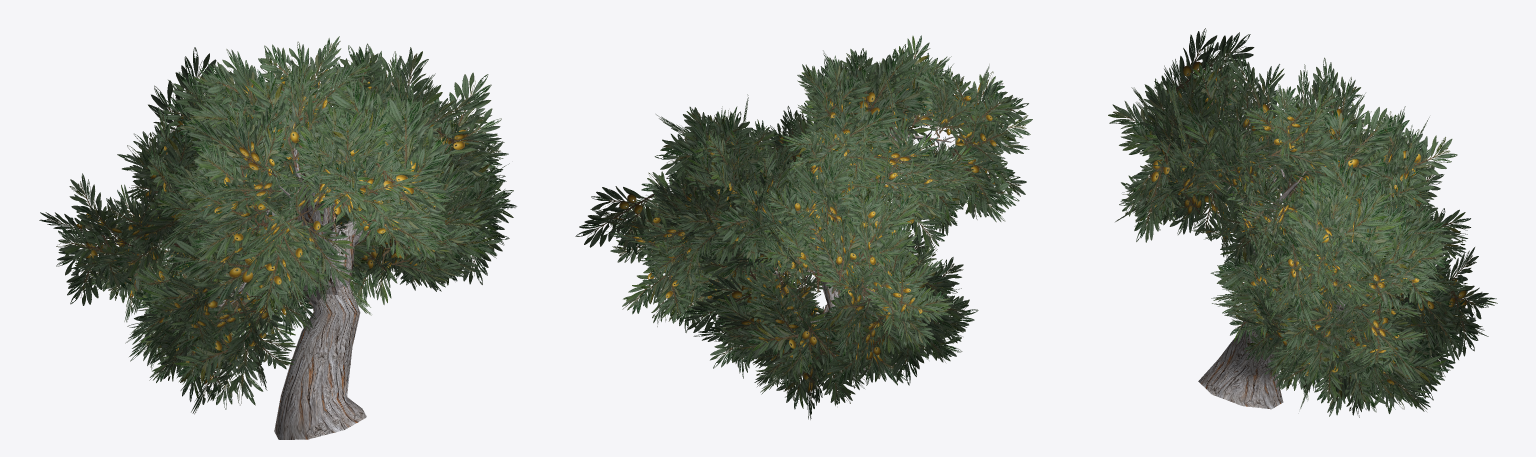
Rendered from nature-white-olive-sunleaf_v4.glb.
The picture shows the model from 3 angles, left to right: view 1: azimuth 30°, elevation 25°; view 2: azimuth 150°, elevation 25°; view 3: azimuth 270°, elevation 25°; orthographic projection. The views are drawn at different scales.
Parts seen in each view (by area): view 1: nature-white-olive-sunleaf; view 2: nature-white-olive-sunleaf; view 3: nature-white-olive-sunleaf.
Part boxes in pixels (box(x1,y1,x2,y2)): nature-white-olive-sunleaf: box(39, 36, 516, 439); nature-white-olive-sunleaf: box(575, 35, 1032, 419); nature-white-olive-sunleaf: box(1108, 28, 1497, 417).
Size of the model in its own units: 6.18 by 5 by 5.43.
2 materials, 2 textured.
